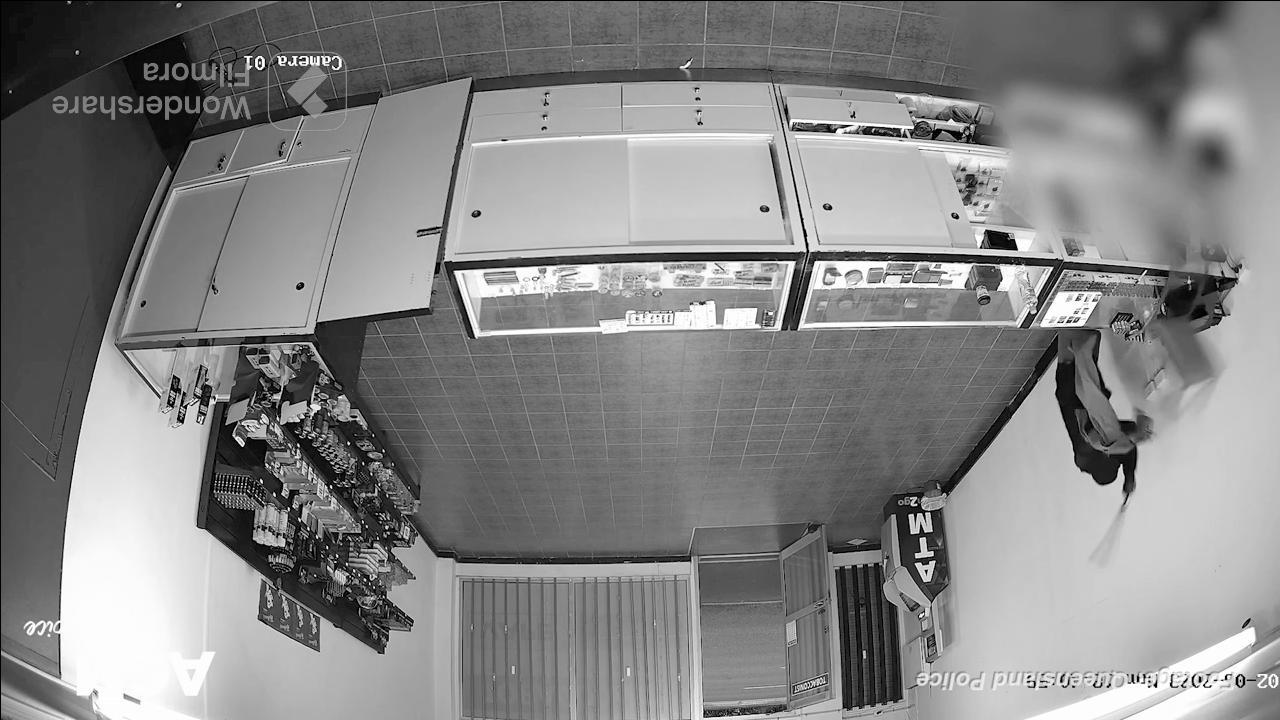melee: (1086, 486, 1136, 563)
